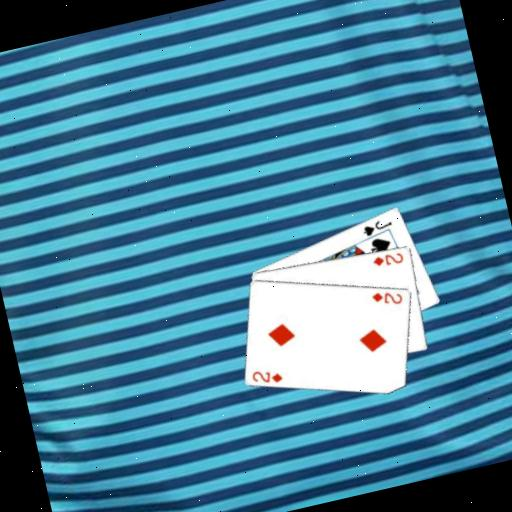2D: (248, 362, 285, 390), (368, 284, 405, 311), (369, 247, 406, 270)
JS: (358, 214, 395, 239)
